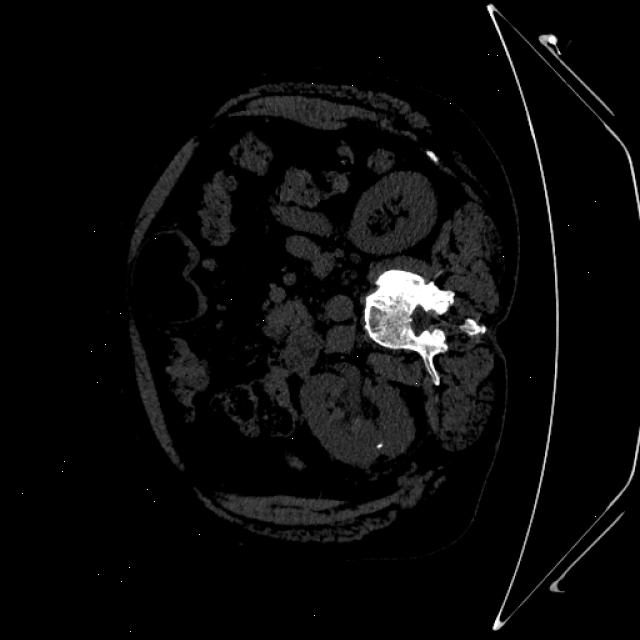kidneystone: (376, 441, 383, 449)
